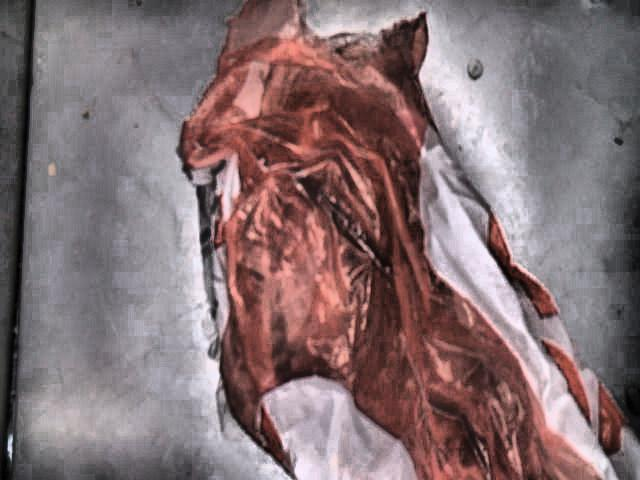Plastic: (177, 0, 640, 480)
